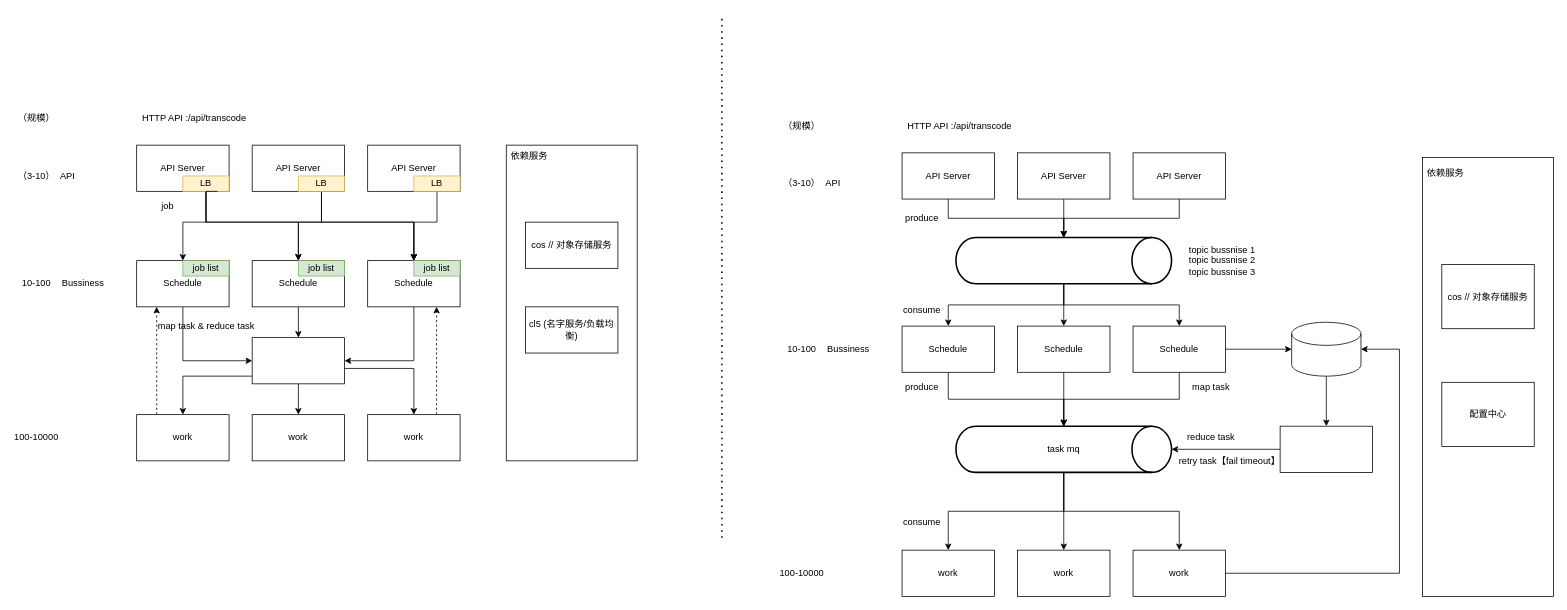
This 1567x610 diagram has some shape labels left out. Each missing label, with the box of its shape:
cron: (1279, 425, 1373, 472)
job mq: (955, 236, 1172, 284)
router: (251, 337, 345, 384)
task db: (1291, 321, 1361, 376)
